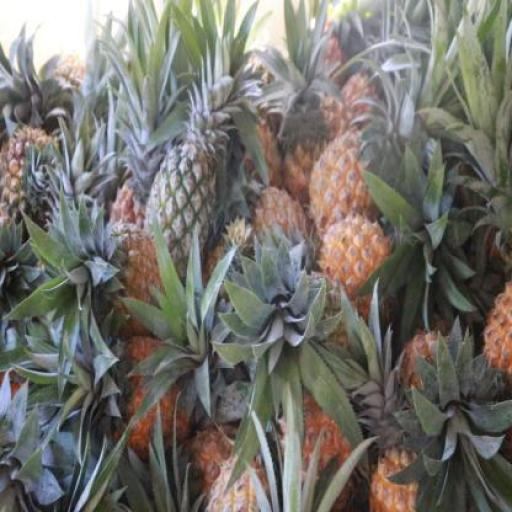Pineapple - v8 v1: (312, 138, 382, 240), (314, 216, 386, 305)
